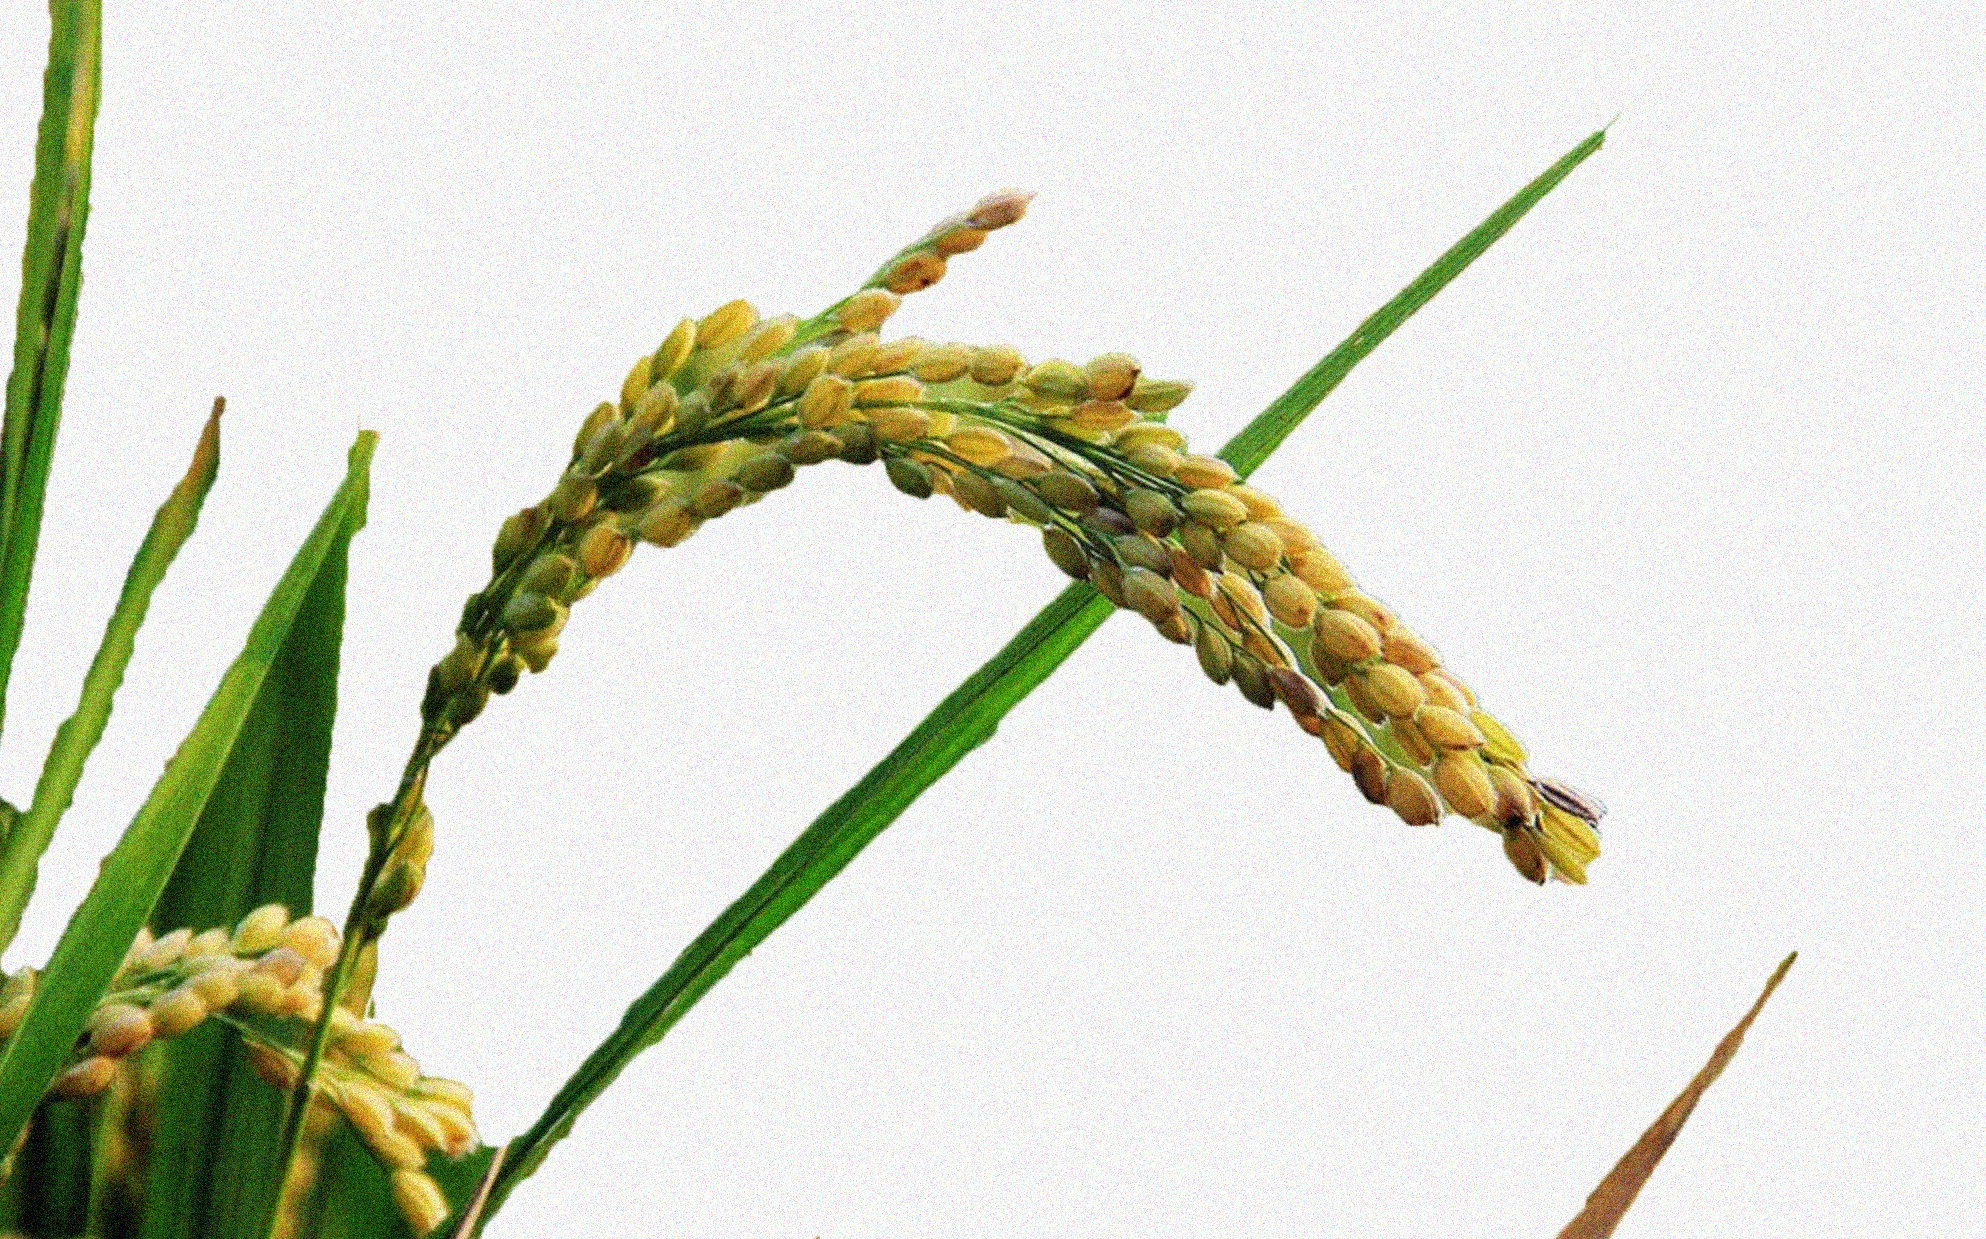rice: (327, 141, 1634, 998)
